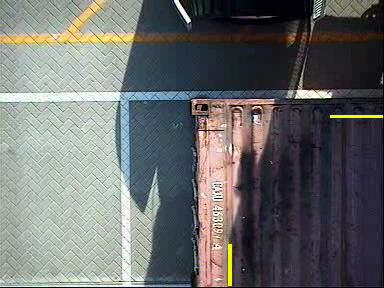groundmarker_2: (145, 115, 196, 151), (146, 1, 197, 36)
